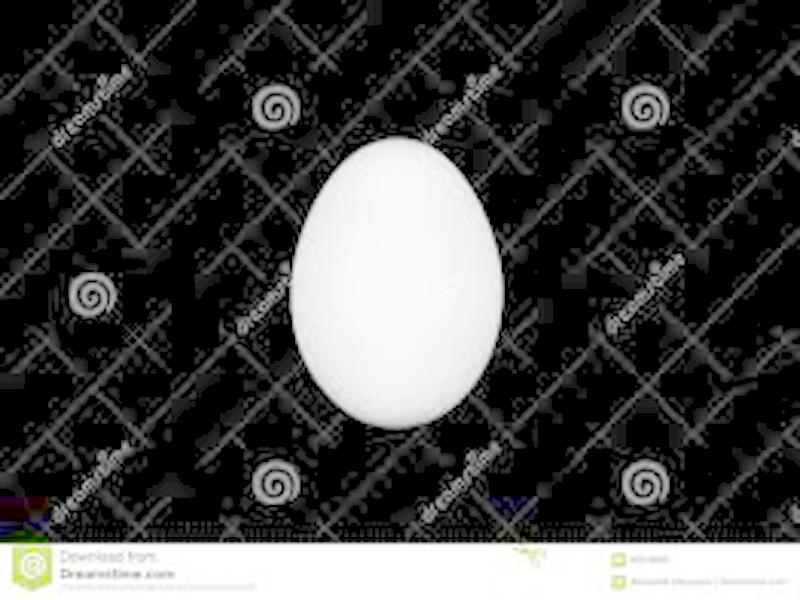Eggs: (293, 140, 507, 426)
